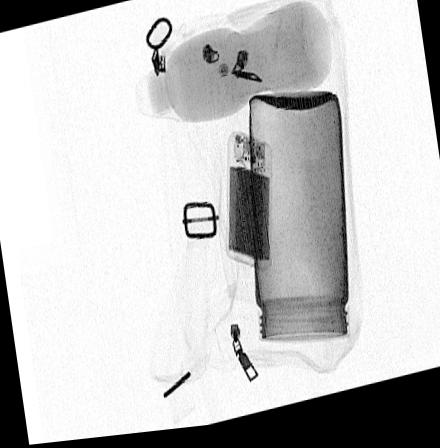Powerbank: (225, 136, 272, 279)
